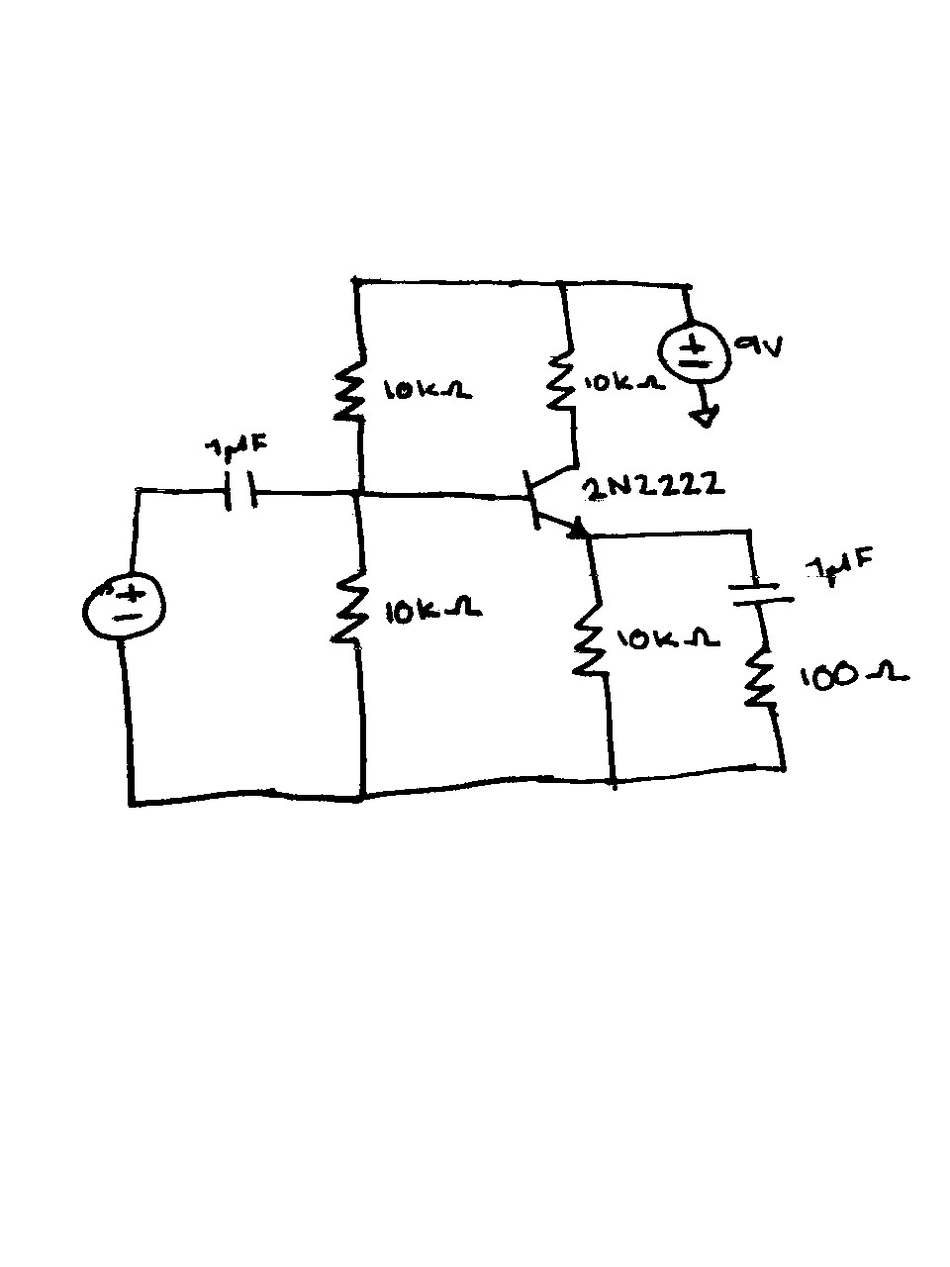capacitor.unpolarized: (722, 577, 797, 612), (217, 465, 263, 519)
gnd: (686, 405, 725, 433)
junction: (345, 481, 368, 503), (123, 792, 146, 813), (346, 273, 368, 292), (353, 785, 372, 806), (552, 275, 573, 294), (602, 771, 620, 791), (132, 481, 149, 500), (776, 760, 791, 776), (742, 525, 755, 539), (677, 279, 692, 291)
resistor: (570, 598, 618, 683), (327, 566, 374, 649), (542, 343, 583, 417), (330, 359, 374, 425), (739, 646, 782, 710)
text: (793, 652, 913, 691), (580, 473, 729, 503), (383, 593, 488, 627), (804, 545, 881, 589), (614, 625, 721, 650), (380, 377, 475, 405), (201, 431, 279, 463), (580, 370, 666, 396), (734, 334, 786, 359)
transistor.bjt: (519, 459, 592, 545)
voltage.dc: (78, 568, 168, 643), (654, 320, 733, 384)
